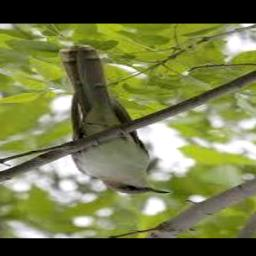Cuckoo: (59, 46, 169, 195)
